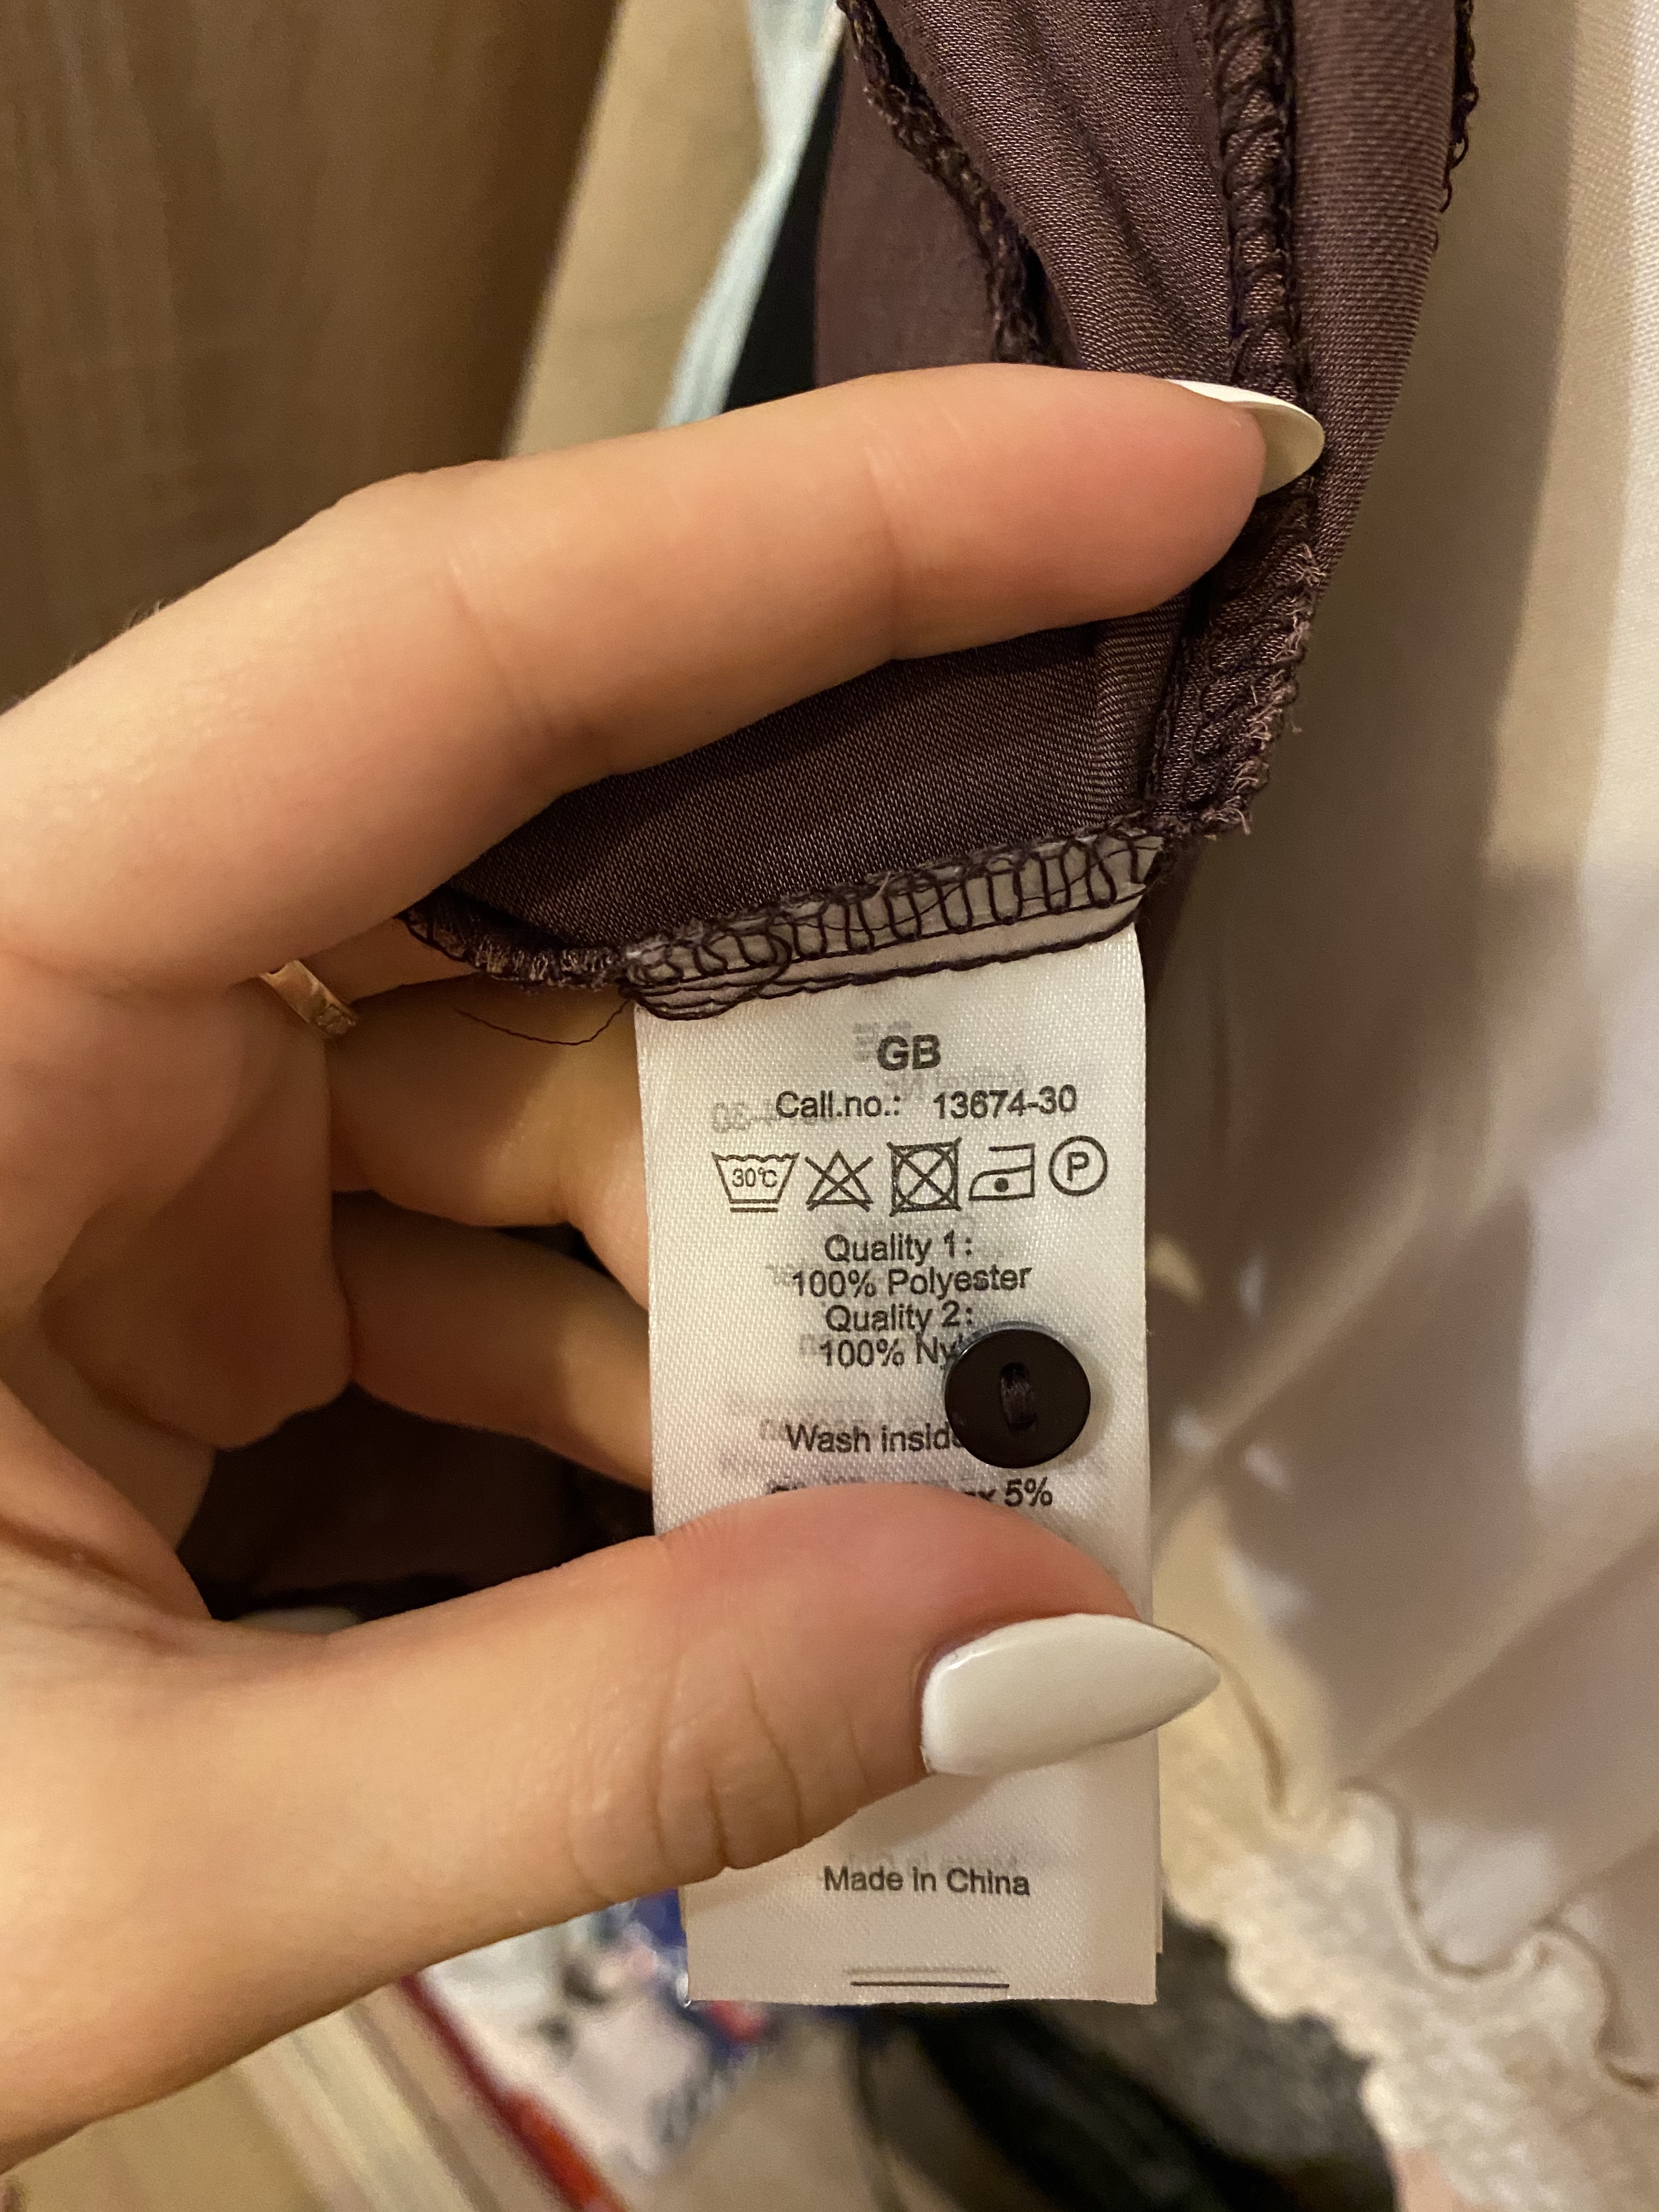do_not_bleach: (802, 1141, 878, 1221)
do_not_tumble_drying: (884, 1130, 971, 1224)
dry_clean_tetrachloroethylene_pce_only: (1042, 1130, 1119, 1198)
ironing_at_low_temp: (962, 1134, 1044, 1214)
wash_at_or_below_30_mild_fine_wash: (702, 1136, 802, 1224)
